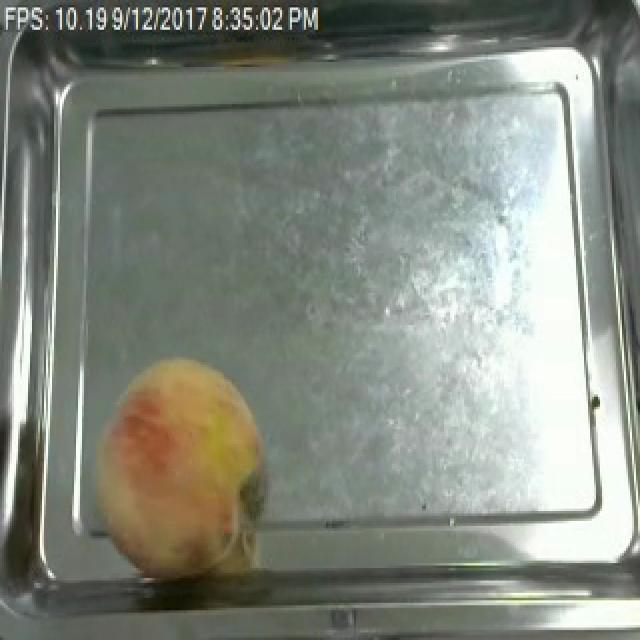Fruit: (80, 347, 278, 588)
